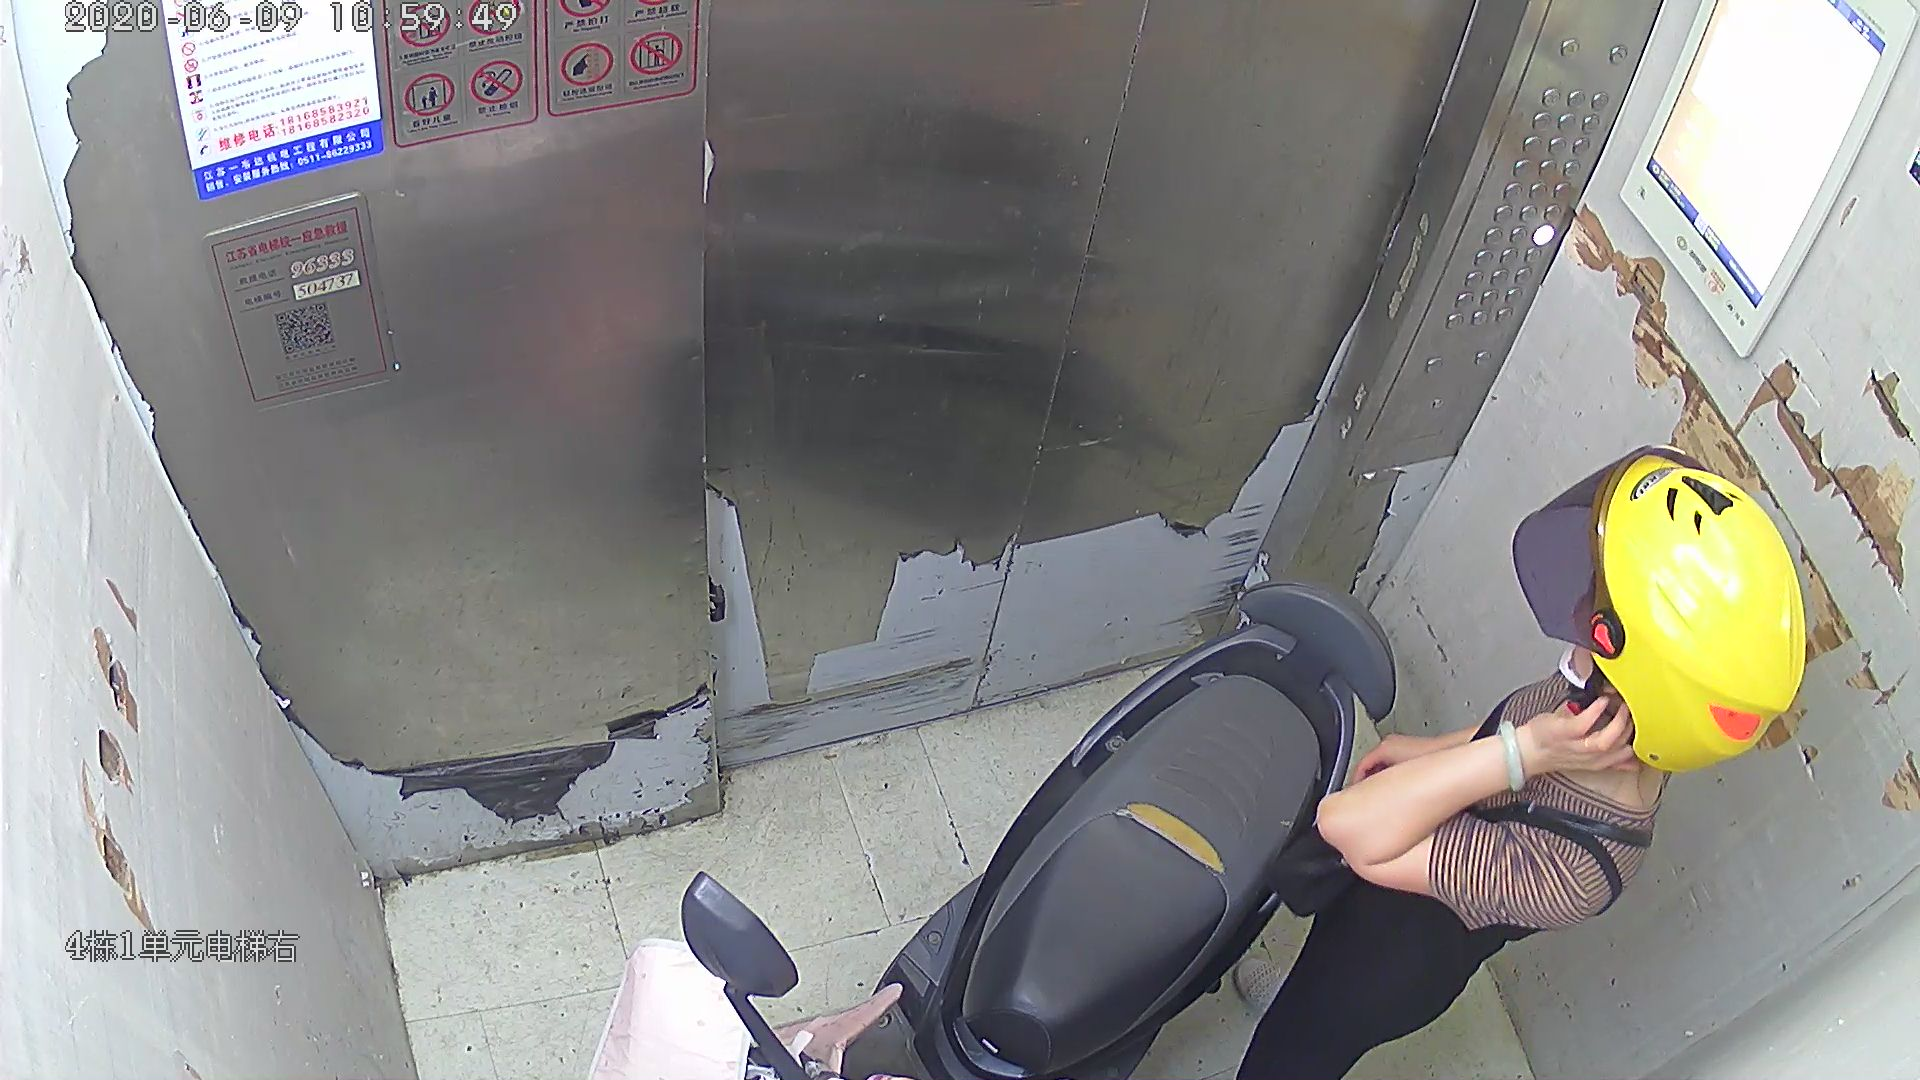Electric-bicycle: (658, 582, 1396, 1080)
